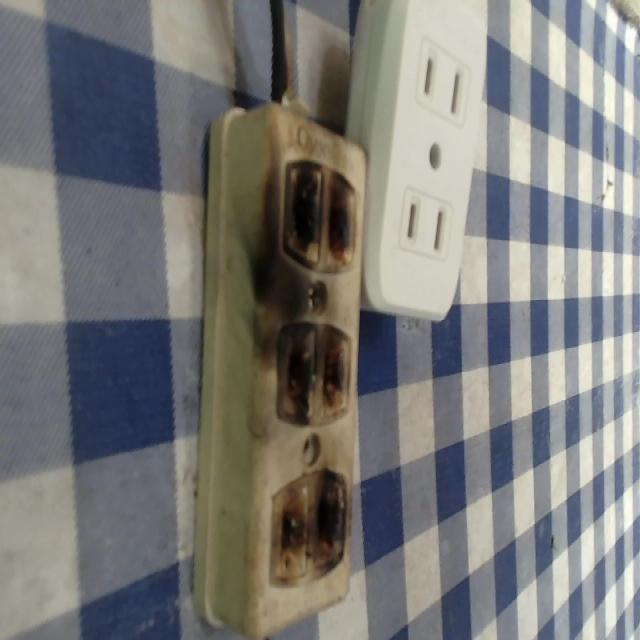-: (269, 468, 352, 585), (277, 150, 351, 274), (272, 317, 354, 427)
